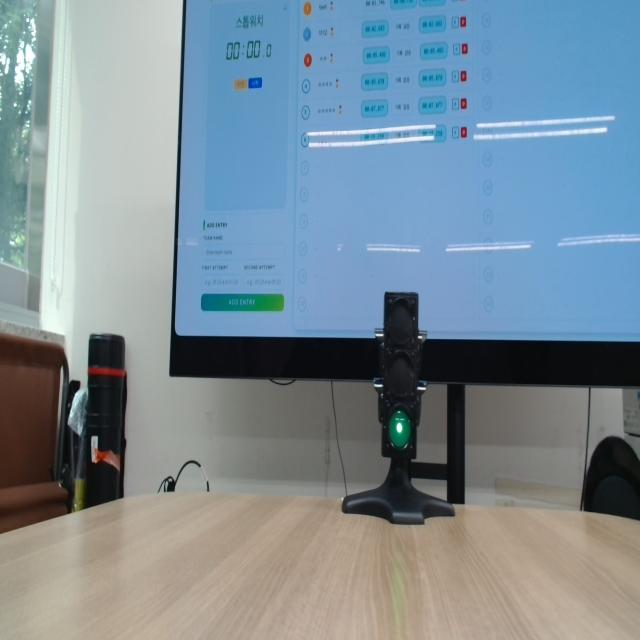green_light: (389, 409, 412, 449)
